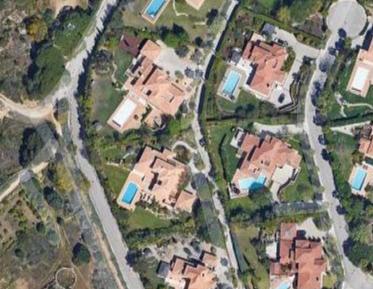pool: (237, 176, 264, 192), (122, 184, 138, 205), (225, 72, 238, 96), (353, 170, 368, 190), (147, 2, 162, 15)
